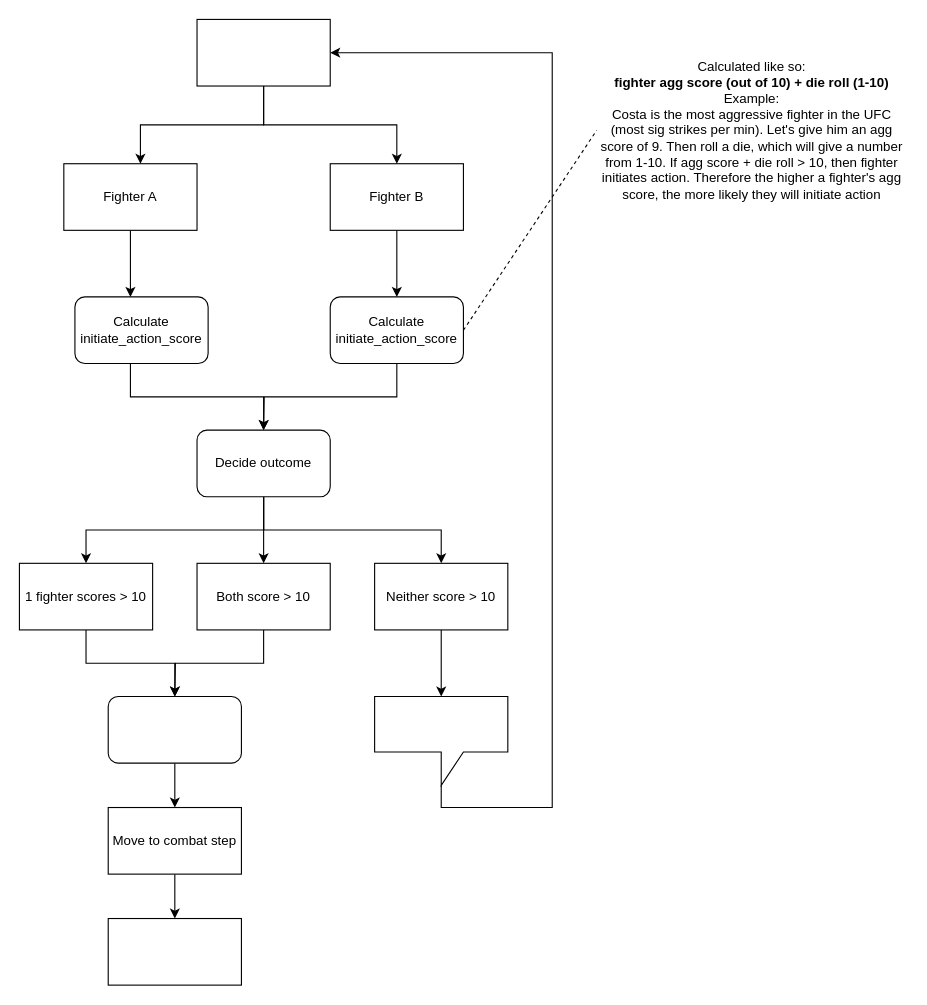
Image size: 927x1005. Some labels were removed from this diagram. The centre of each missing label's shape, as x and y in pixels:
"Both fighters are cautious!": (x=441, y=740)
Fighter with highest score = aggressor: (x=174, y=729)
Intention step: (x=263, y=52)
TBC: (x=174, y=951)
